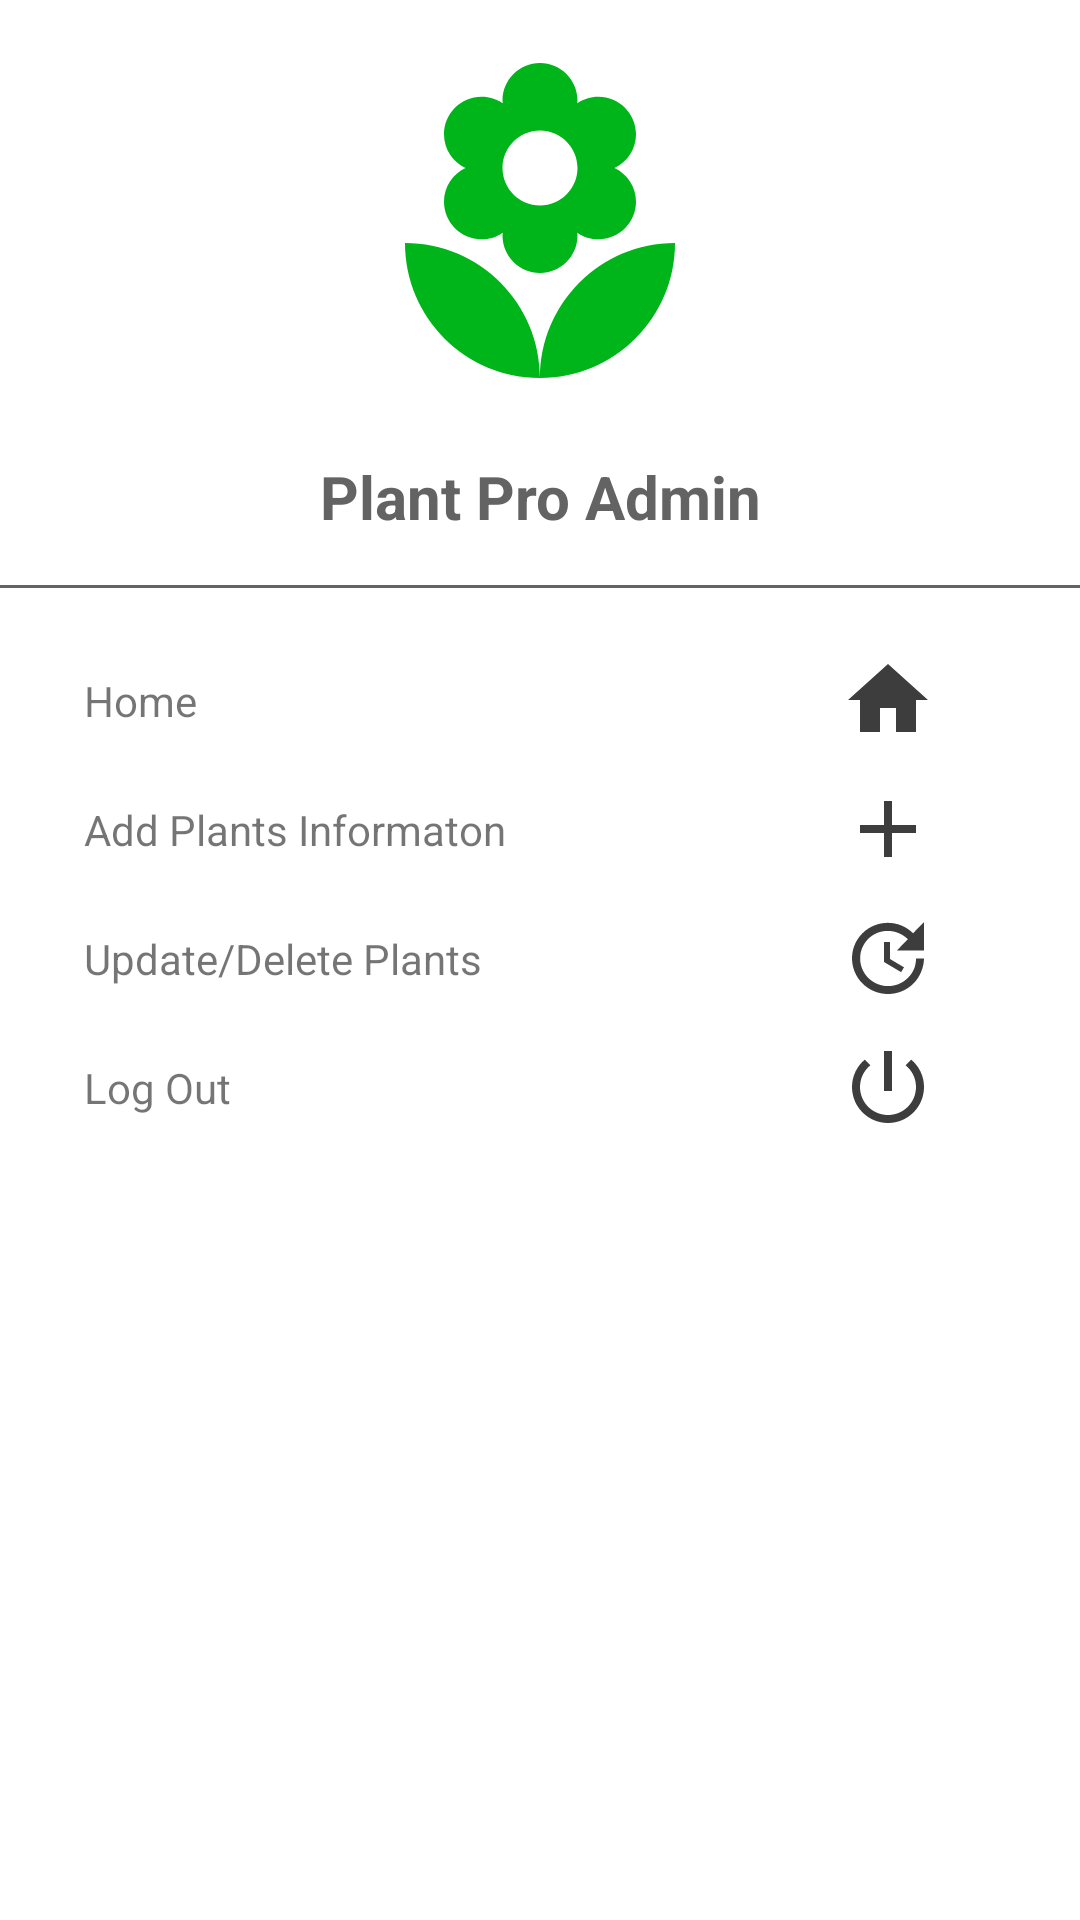

Icon bounding boxes for this 1080px×1920px phone screenshot, format (x1, y1, x2, y2):
flower: (405, 63, 675, 378)
